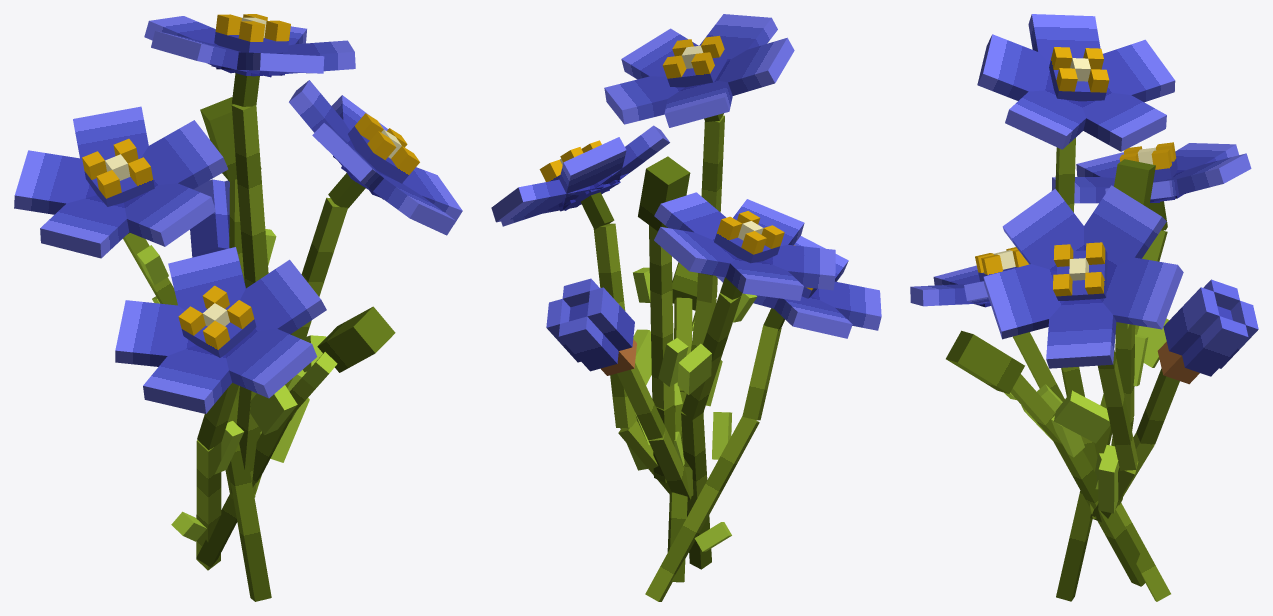
3 views of the same model, side by side, from view 1: azimuth 30°, elevation 25°; view 2: azimuth 150°, elevation 25°; view 3: azimuth 270°, elevation 25° (orthographic). The views are drawn at different scales.
Visible parts, largest first — view 1: ui_icon_flax; view 2: ui_icon_flax; view 3: ui_icon_flax.
Part boxes in pixels (left/top/right/bottom): ui_icon_flax: left=14, top=14, right=462, bottom=601; ui_icon_flax: left=491, top=14, right=881, bottom=601; ui_icon_flax: left=910, top=14, right=1258, bottom=601.
Size of the model in its own units: 13.07 by 19.21 by 10.96.
1 material, 1 textured.
